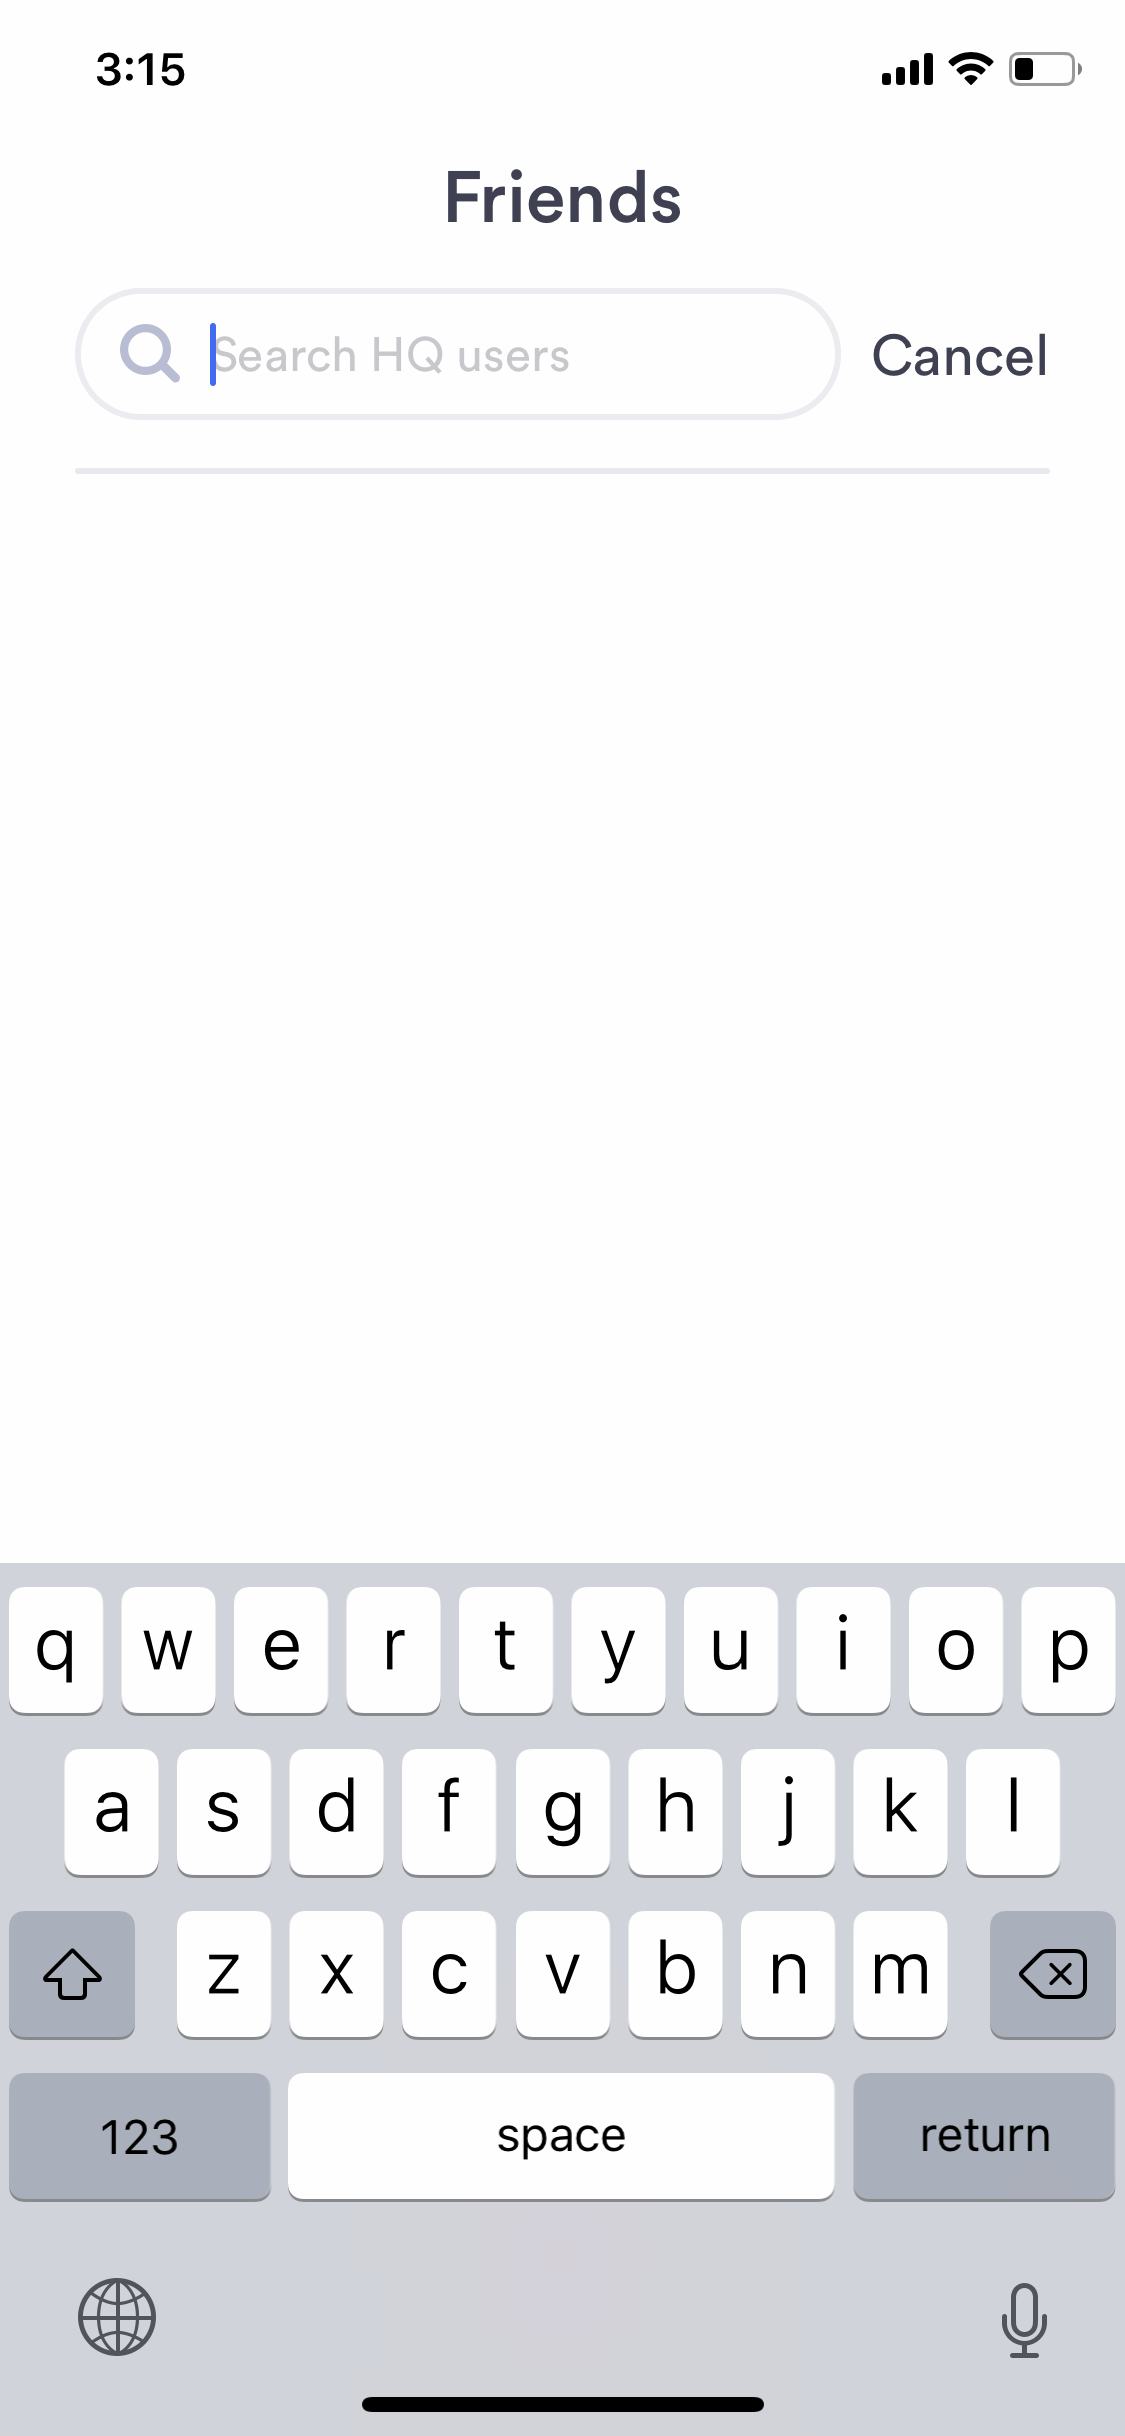Buttons: (845, 295, 1085, 423)
